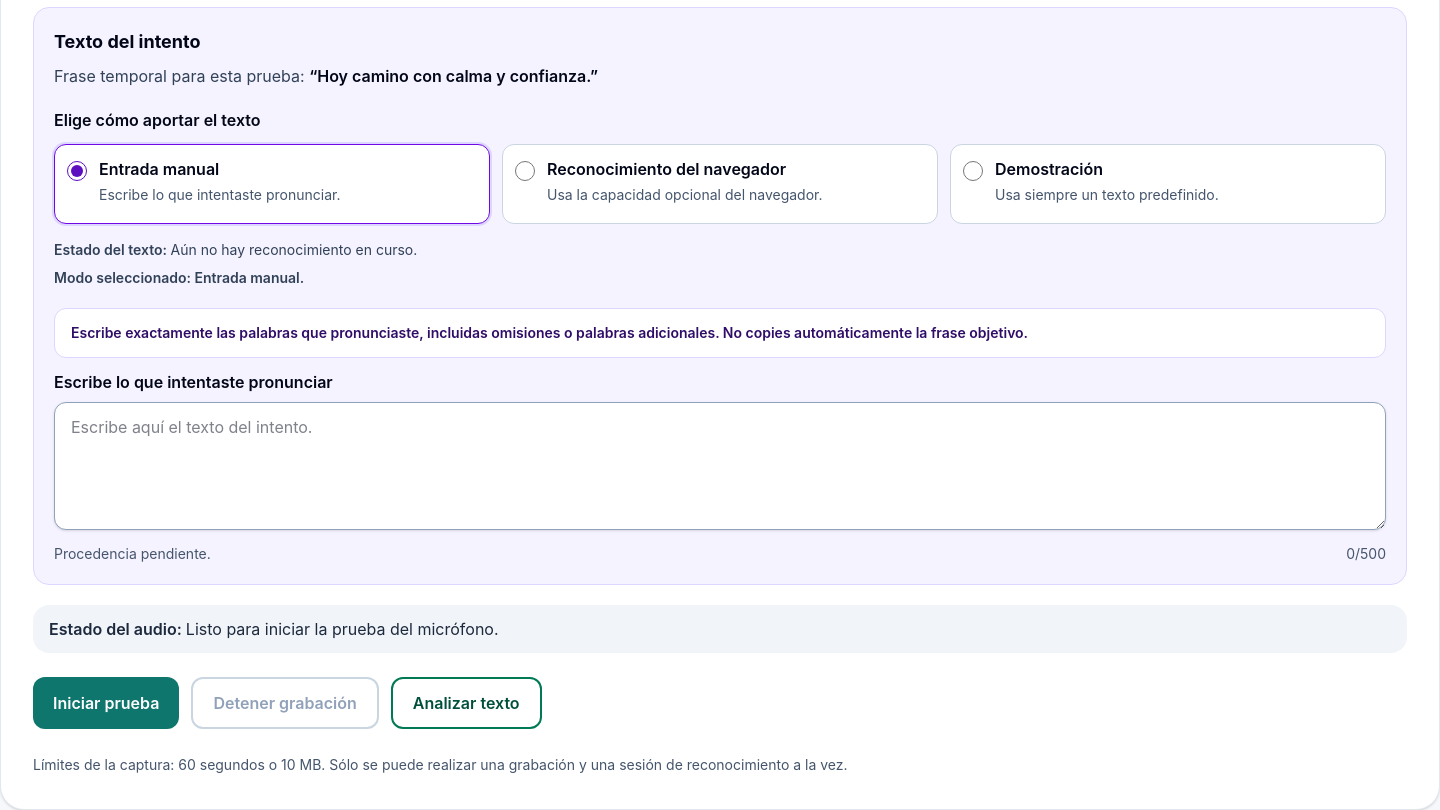
Test: AudioRecorderCard › evita solicitudes simultáneas ante un doble clic
(page scrolled)
Double-click the button "Iniciar prueba" at [106, 703], box 33,677 -> 179,729
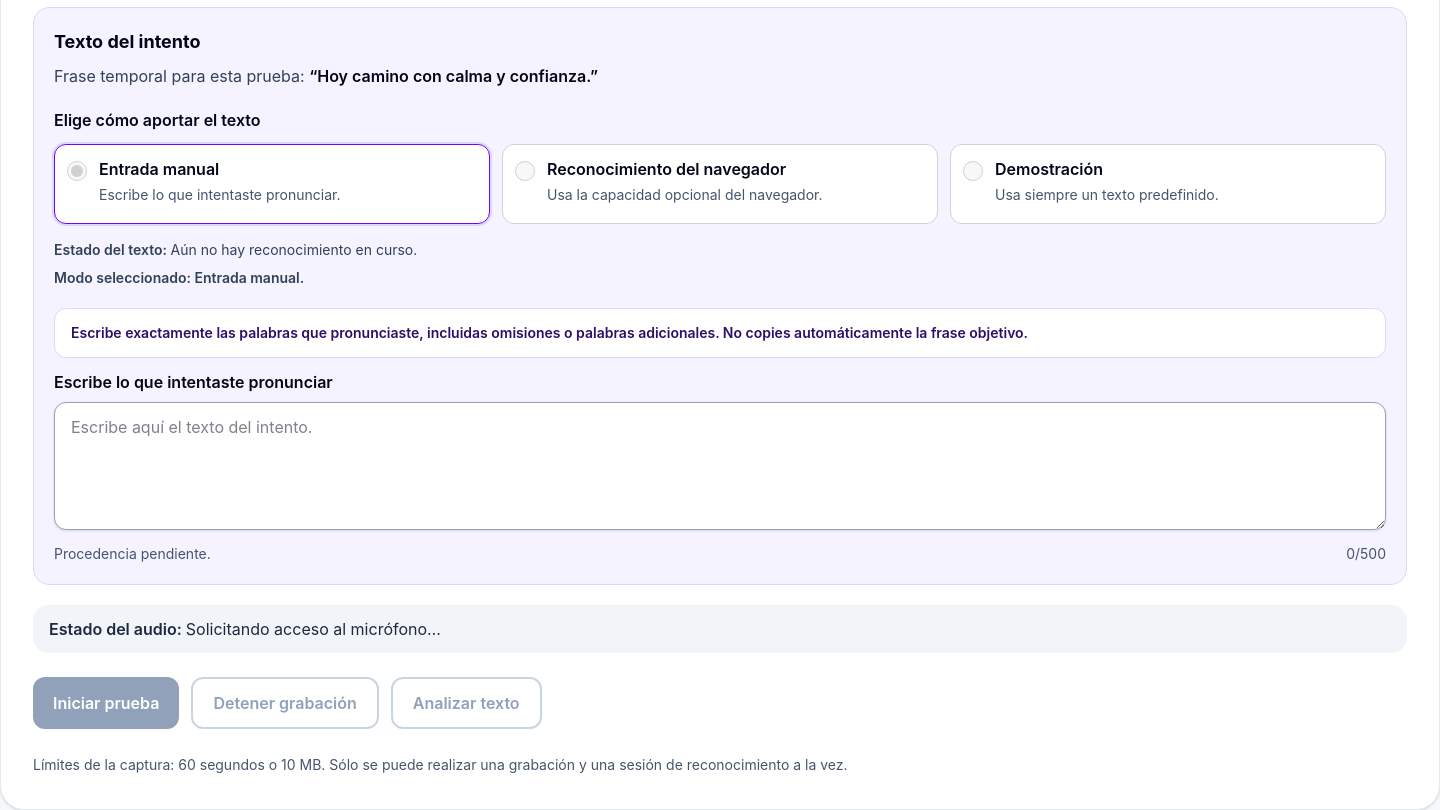
Now the button "Iniciar prueba" is disabled, box 33,677 -> 179,729
Now the message shows "Solicitando acceso al micrófono…", box 186,619 -> 441,639
